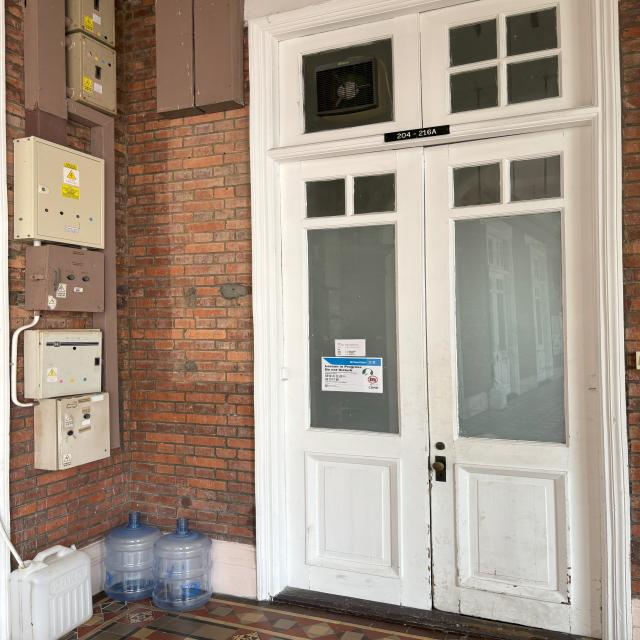MB204_roomNumber: (378, 122, 452, 145)
